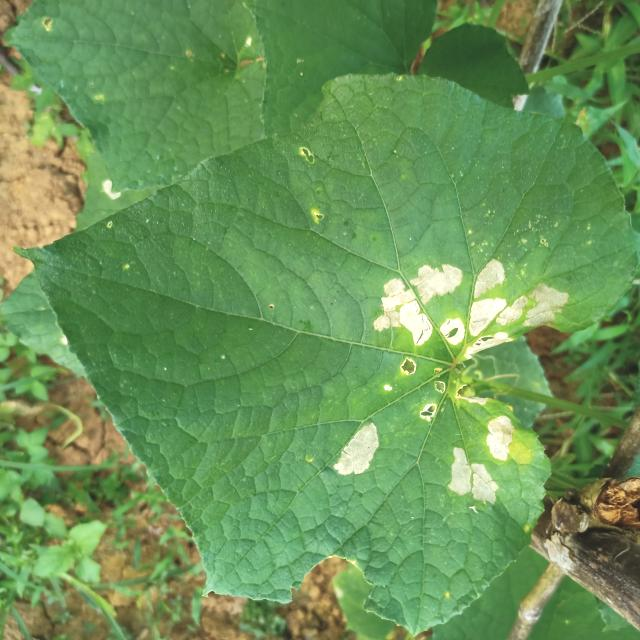disease_cucumber: (372, 257, 571, 361), (448, 446, 499, 506), (332, 419, 383, 478), (485, 413, 515, 465), (418, 381, 450, 424), (399, 356, 418, 377)
